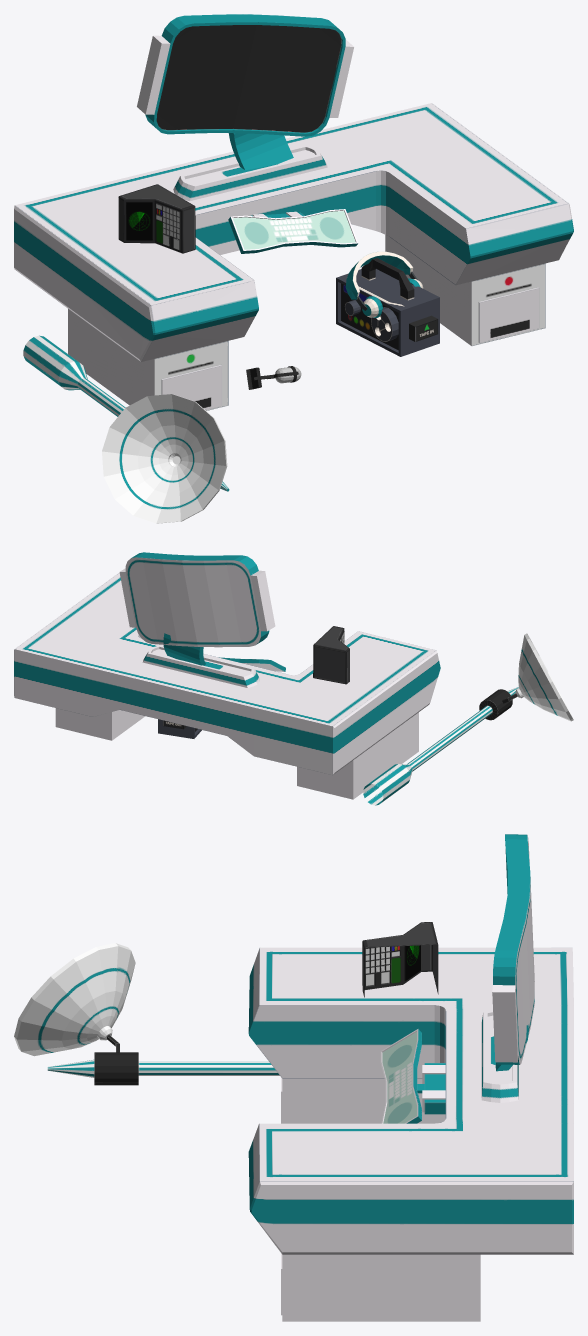
File: Communication_Wreck.dae
The picture shows the model from 3 angles, top to bottom: view 1: azimuth 30°, elevation 25°; view 2: azimuth 150°, elevation 25°; view 3: azimuth 270°, elevation 25°; orthographic projection. The views are drawn at different scales.
Visible parts, largest first — view 1: Desk Component, Monitor, Antenna, Tape Player, Keyboard, Radar Device, Headset, Microphone; view 2: Desk Component, Monitor, Antenna, Radar Device, Tape Player, Keyboard; view 3: Desk Component, Antenna, Monitor, Keyboard, Radar Device.
Boxes of the visible parts, x1=… form: Desk Component: x1=14, y1=103, x2=573, y2=410; Monitor: x1=137, y1=14, x2=353, y2=201; Antenna: x1=23, y1=335, x2=229, y2=523; Tape Player: x1=336, y1=258, x2=439, y2=356; Keyboard: x1=228, y1=209, x2=358, y2=253; Radar Device: x1=118, y1=184, x2=195, y2=253; Headset: x1=345, y1=251, x2=423, y2=317; Microphone: x1=246, y1=366, x2=301, y2=389; Desk Component: x1=14, y1=573, x2=440, y2=799; Monitor: x1=119, y1=552, x2=275, y2=687; Antenna: x1=363, y1=633, x2=573, y2=805; Radar Device: x1=313, y1=626, x2=349, y2=684; Tape Player: x1=158, y1=719, x2=201, y2=738; Keyboard: x1=219, y1=657, x2=285, y2=671; Desk Component: x1=248, y1=947, x2=573, y2=1321; Antenna: x1=14, y1=943, x2=279, y2=1085; Monitor: x1=481, y1=834, x2=534, y2=1102; Keyboard: x1=380, y1=1029, x2=445, y2=1123; Radar Device: x1=362, y1=922, x2=438, y2=997.
Bounding box in the file's own units: 4.21 × 3.36 × 2.28.
